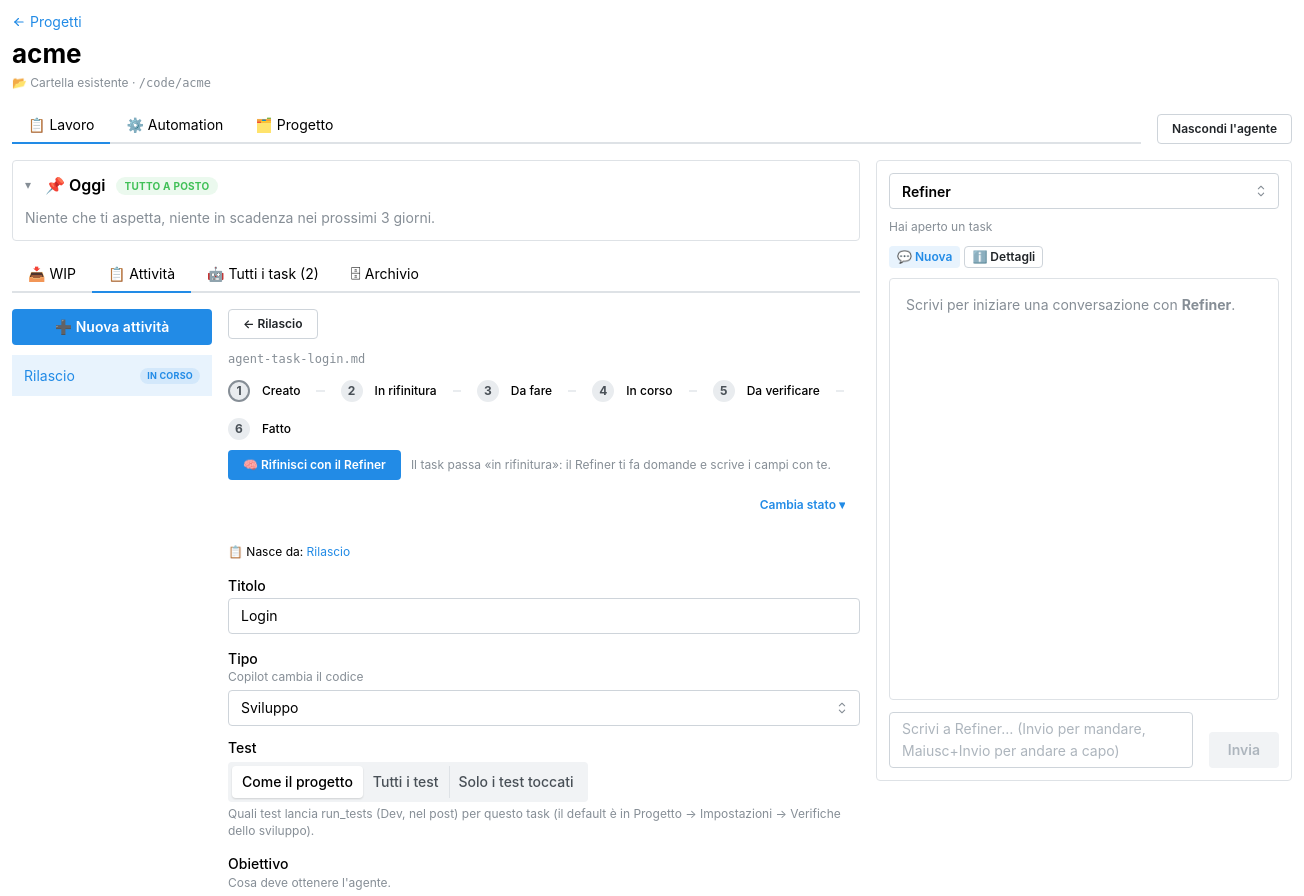
Test case: the agent of what is open › a task to refine: the Refiner; «Rifinisci con il Refiner» puts the request in its box, not sent
Check: the field named "Agente" holds "Refiner", box 889,173 -> 1279,209
Click the button "🧠 Rifinisci con il Refiner".
click(314, 465)  # box 228,450 -> 401,480
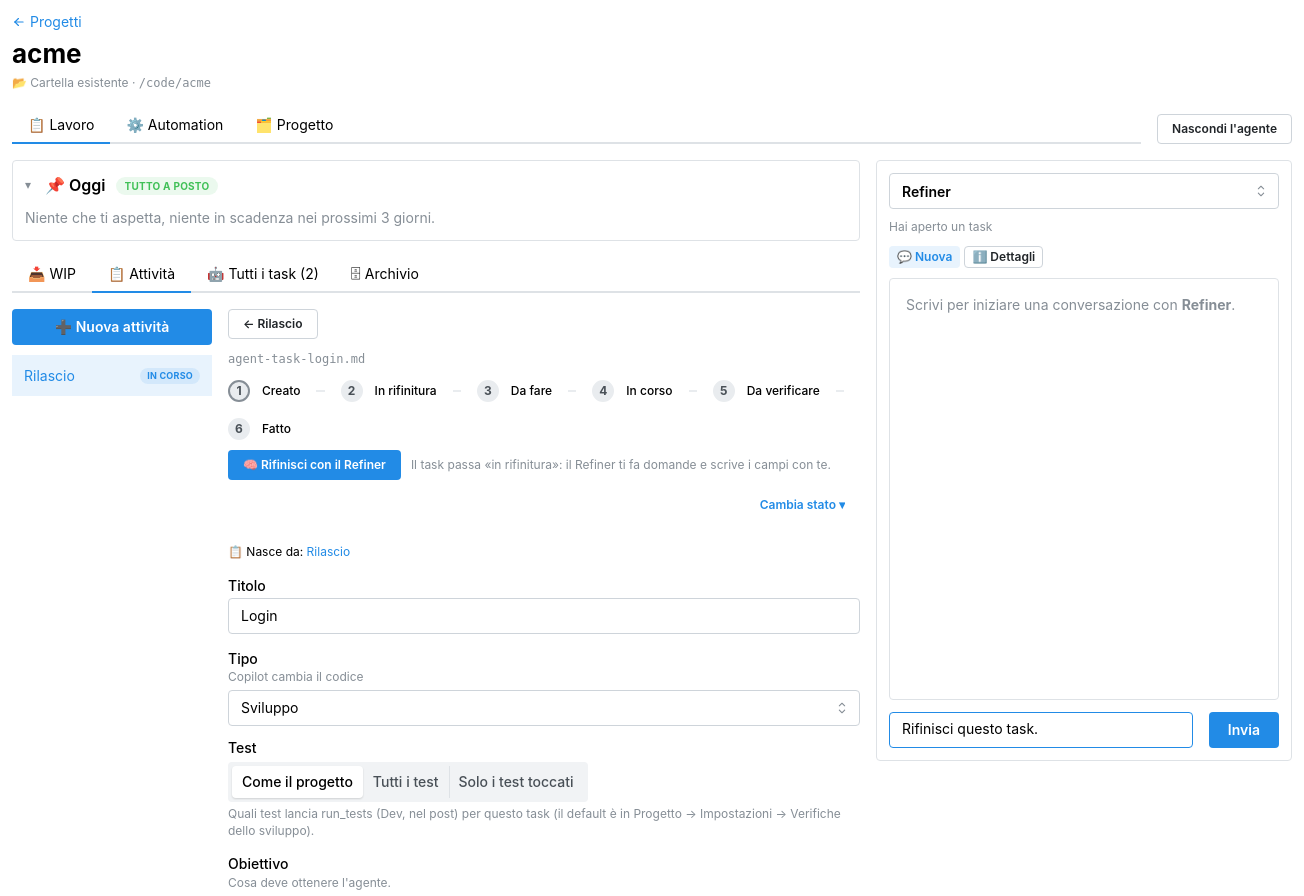
Check: the text box with placeholder "Scrivi a Refiner" holds "Rifinisci questo task.", box 889,712 -> 1193,748
